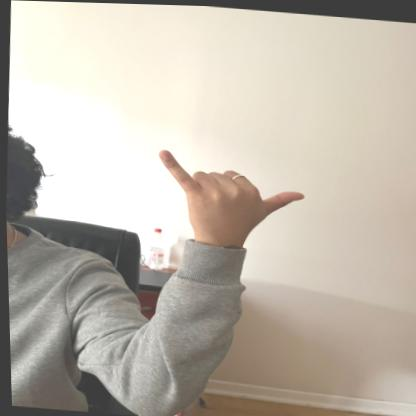Y: (149, 143, 312, 252)
